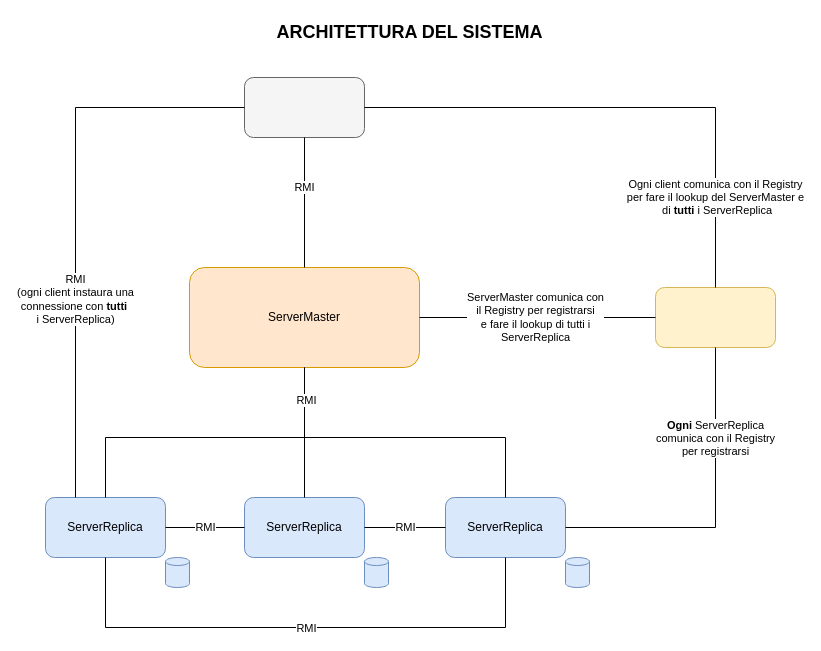
Some shapes in this 821 by 651 pixel diagram are drawn without their labels. The centre of each missing label's shape, as x and y in pixels:
"Clients" goes at (x=304, y=107).
"Registry" goes at (x=715, y=317).
